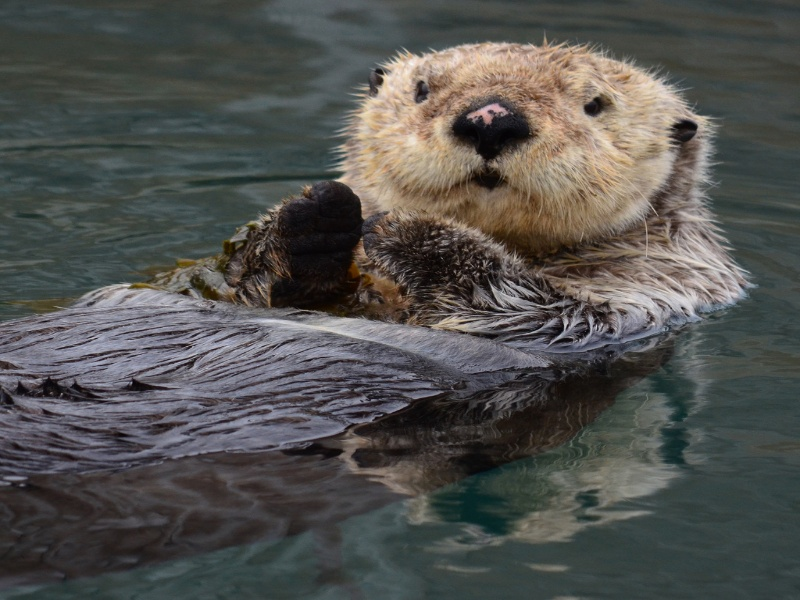minkish: (19, 27, 747, 555)
